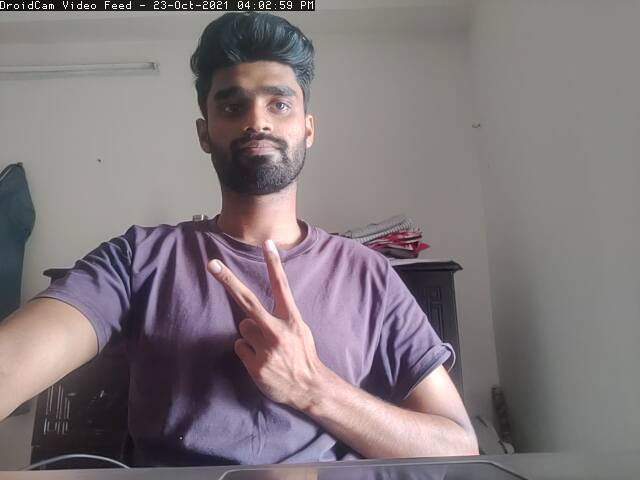Victory: (207, 236, 319, 411)
